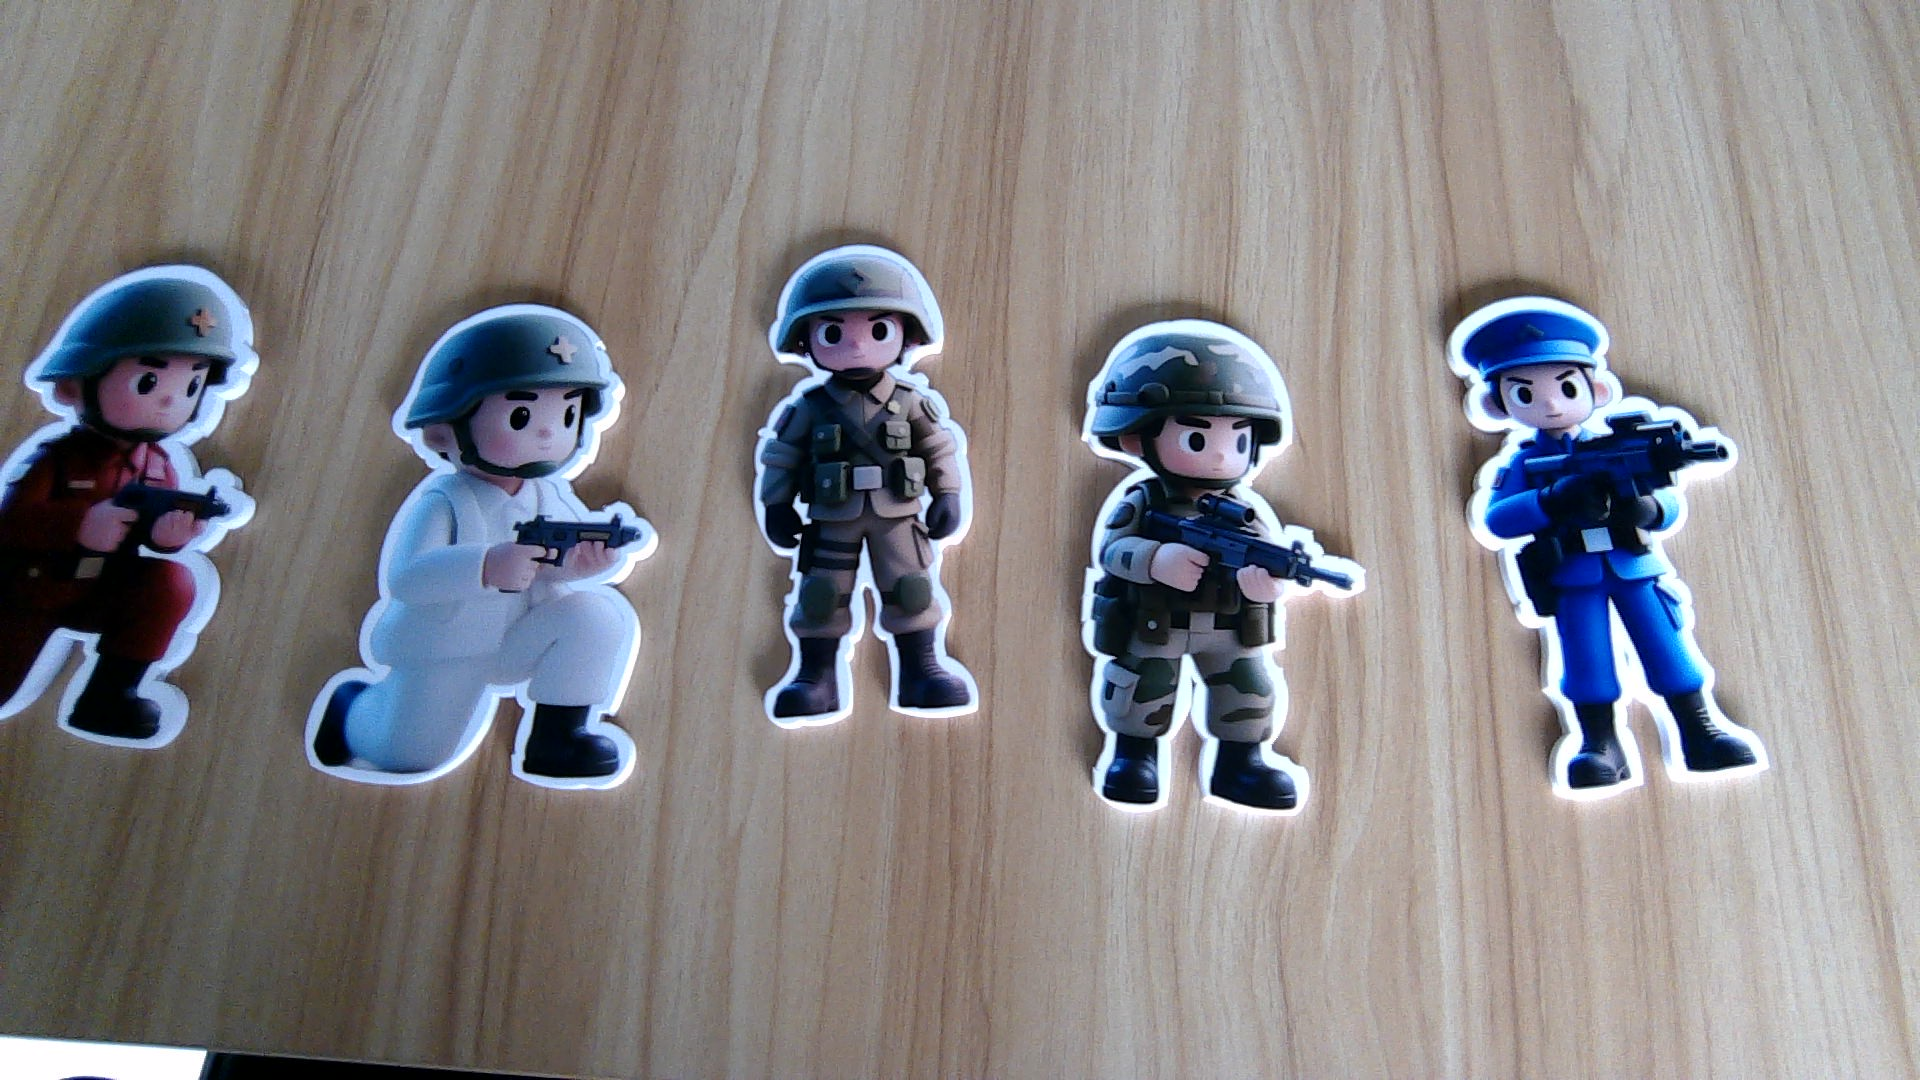人质: (302, 477, 662, 793)
友军: (1076, 492, 1361, 816), (742, 378, 982, 727)
敌人2: (1460, 433, 1803, 807)
